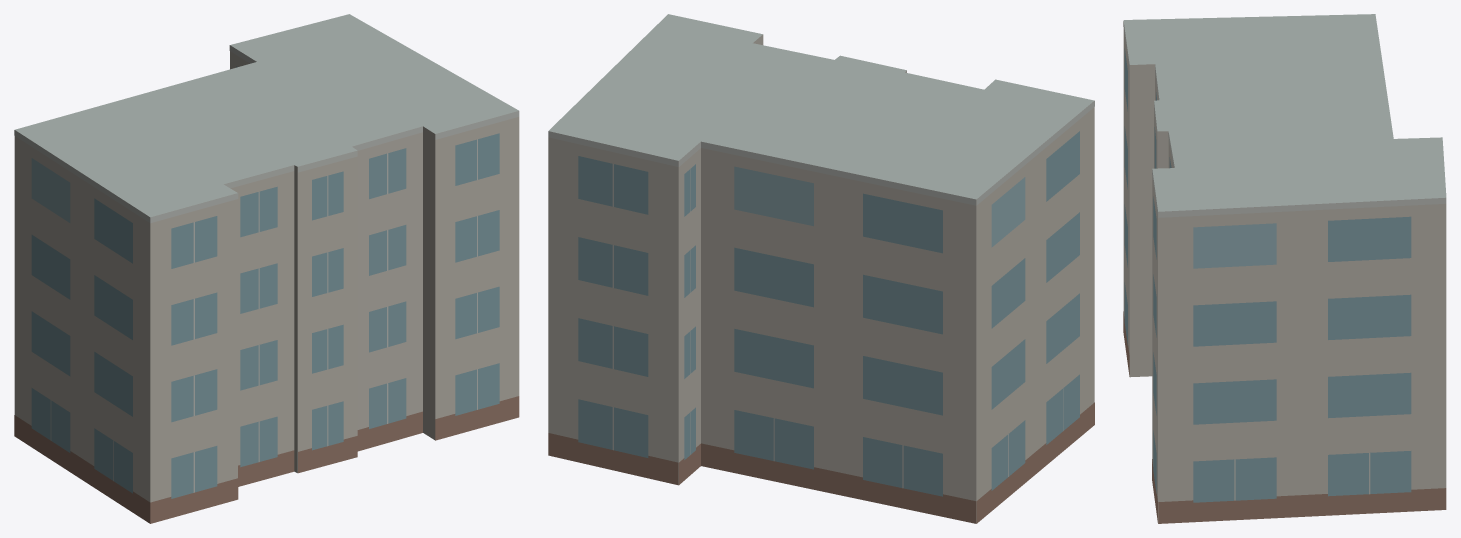
The model's file is survey-upis-32737451.glb.
3 renders of one model, left to right at view 1: azimuth 30°, elevation 25°; view 2: azimuth 150°, elevation 25°; view 3: azimuth 270°, elevation 25°, orthographic. The views are drawn at different scales.
Parts seen in each view (by area): view 1: survey-upis-32737451.tmp; view 2: survey-upis-32737451.tmp; view 3: survey-upis-32737451.tmp.
Part boxes in pixels (x1,y1,x2,y2): survey-upis-32737451.tmp: [14, 14, 519, 523]; survey-upis-32737451.tmp: [548, 14, 1094, 523]; survey-upis-32737451.tmp: [1123, 14, 1446, 523].
Size of the model in its own units: 17.14 by 12.6 by 11.83.
